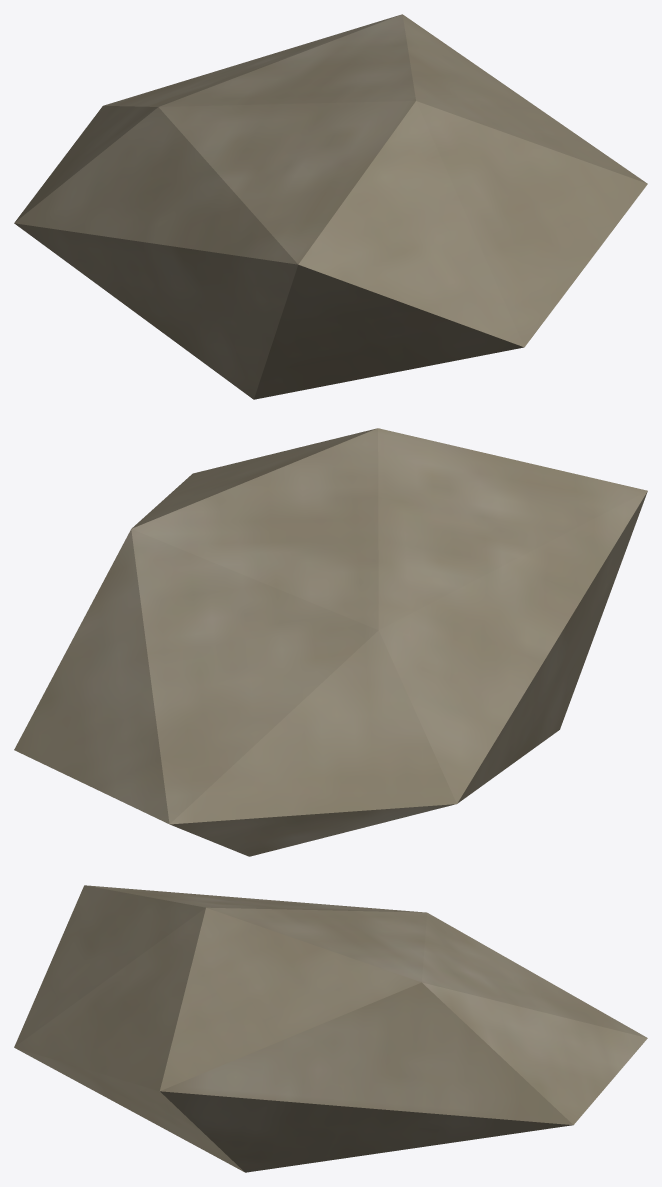
The model's file is rock_circular1_fbx.fbx.
3 renders of one model, top to bottom at view 1: azimuth 30°, elevation 25°; view 2: azimuth 150°, elevation 25°; view 3: azimuth 270°, elevation 25°, orthographic. The views are drawn at different scales.
Visible parts, largest first — view 1: rock_circular1_fbx; view 2: rock_circular1_fbx; view 3: rock_circular1_fbx.
Boxes of the visible parts, x1,y1,x2,y2 form: rock_circular1_fbx: [14, 14, 647, 399]; rock_circular1_fbx: [14, 428, 647, 856]; rock_circular1_fbx: [14, 885, 647, 1172].
Bounding box in the file's own units: 199 × 110 × 286.
1 material, 1 textured.
